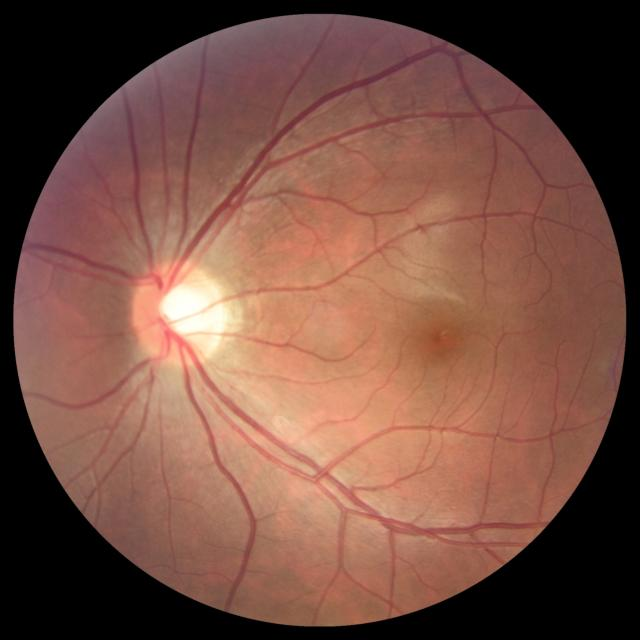OC: (157, 282, 208, 340)
OD: (132, 260, 226, 366)
